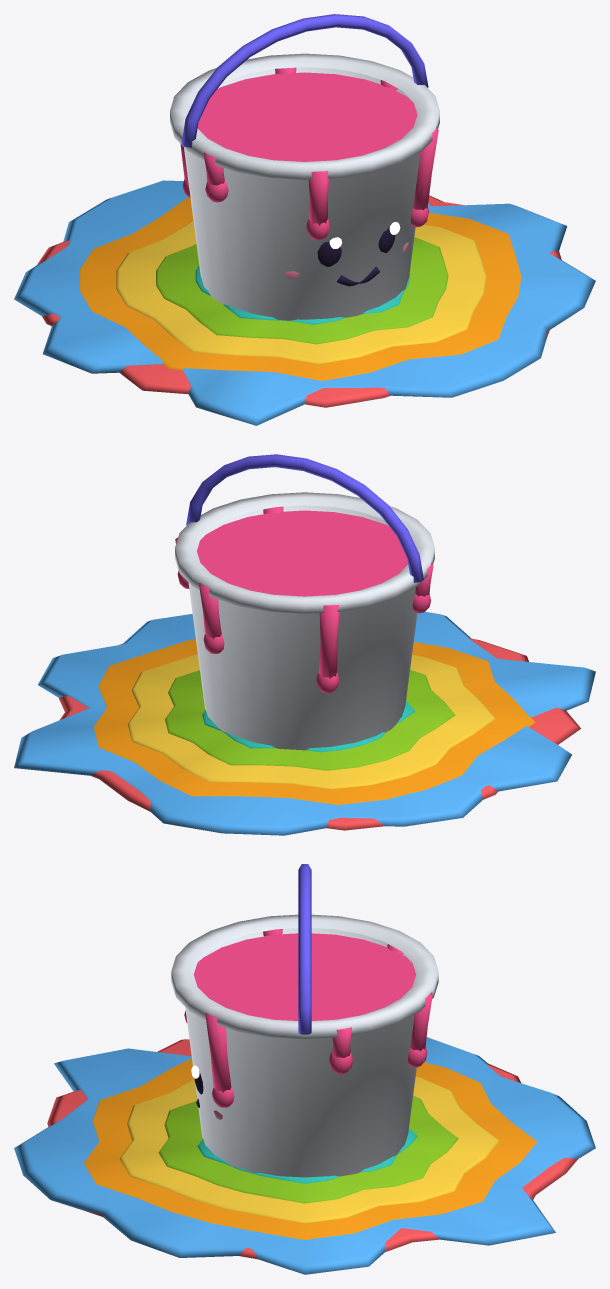
Rendered from props.glb.
3 views of the same model, one above another, from view 1: azimuth 30°, elevation 25°; view 2: azimuth 150°, elevation 25°; view 3: azimuth 270°, elevation 25° (orthographic). The views are drawn at different scales.
Parts seen in each view (by area): view 1: bucket_mesh, puddle_rainbow_mesh, puddle_water_mesh; view 2: bucket_mesh, puddle_rainbow_mesh, puddle_water_mesh; view 3: bucket_mesh, puddle_rainbow_mesh, puddle_water_mesh.
Boxes of the visible parts, x1=… form: bucket_mesh: x1=170, y1=14, x2=439, y2=320; puddle_rainbow_mesh: x1=37, y1=195, x2=561, y2=407; puddle_water_mesh: x1=14, y1=180, x2=595, y2=425; bucket_mesh: x1=175, y1=454, x2=434, y2=750; puddle_rainbow_mesh: x1=59, y1=638, x2=580, y2=830; puddle_water_mesh: x1=14, y1=611, x2=595, y2=835; bucket_mesh: x1=171, y1=864, x2=438, y2=1177; puddle_rainbow_mesh: x1=47, y1=1039, x2=577, y2=1259; puddle_water_mesh: x1=14, y1=1037, x2=595, y2=1274.
Size of the model in its own units: 2.69 by 1.34 by 2.62.
